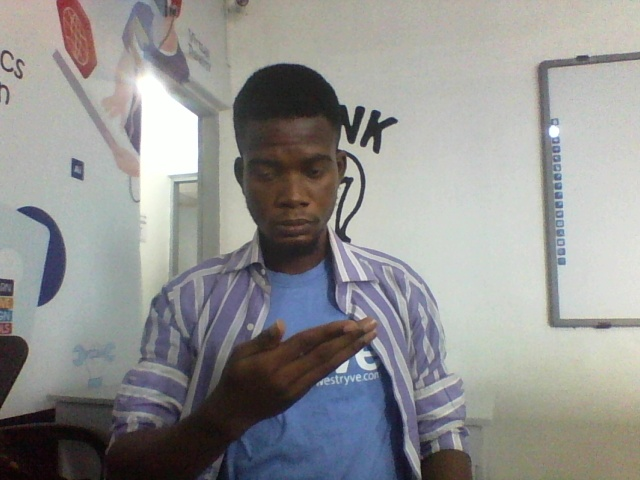you_are_welcome: (108, 320, 398, 455)
